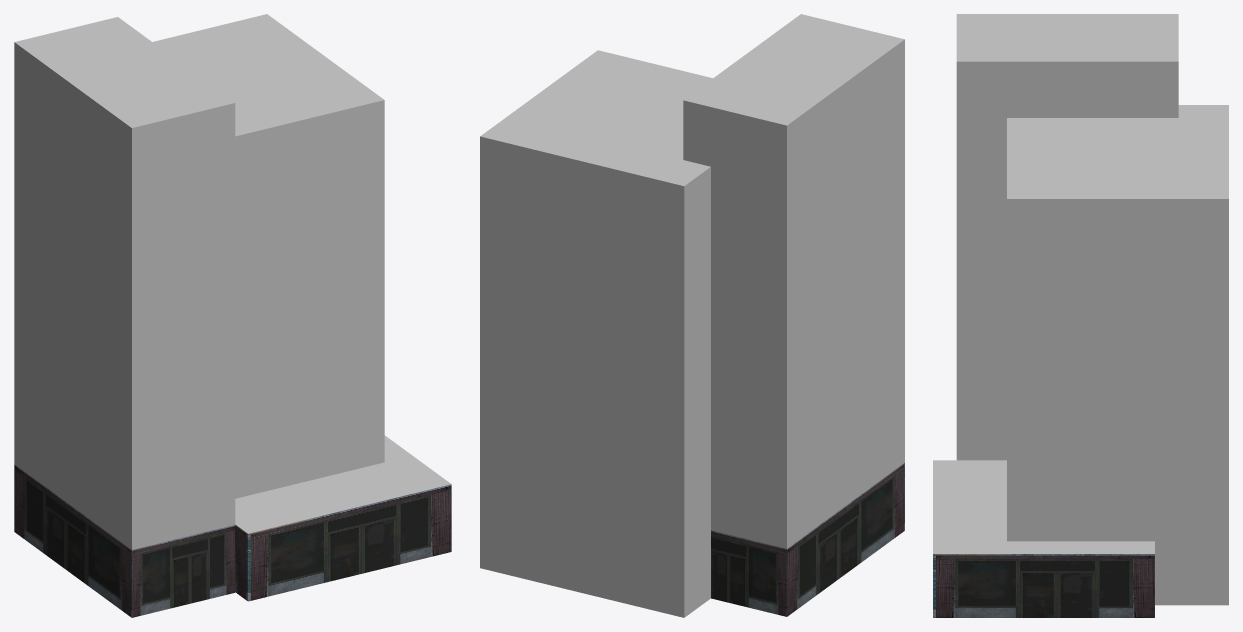
Rendered from NEW building 7.fbx.
The picture shows the model from 3 angles, left to right: view 1: azimuth 30°, elevation 25°; view 2: azimuth 150°, elevation 25°; view 3: azimuth 270°, elevation 25°; orthographic projection. The views are drawn at different scales.
Parts seen in each view (by area): view 1: Object_6.012; view 2: Object_6.012; view 3: Object_6.012.
Boxes of the visible parts, x1,y1,x2,y2 form: Object_6.012: (14, 14, 451, 617); Object_6.012: (480, 14, 904, 617); Object_6.012: (933, 14, 1228, 617).
Size of the model in its own units: 258 by 393 by 227.
